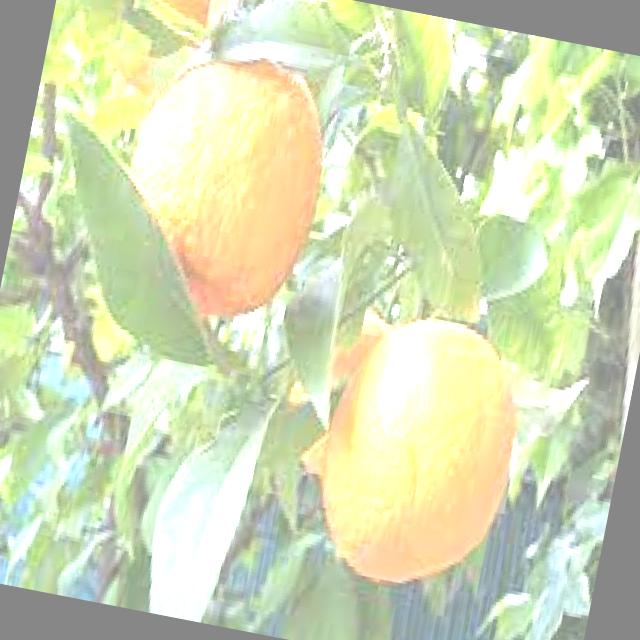Orange: (299, 299, 536, 600), (104, 33, 342, 331)
